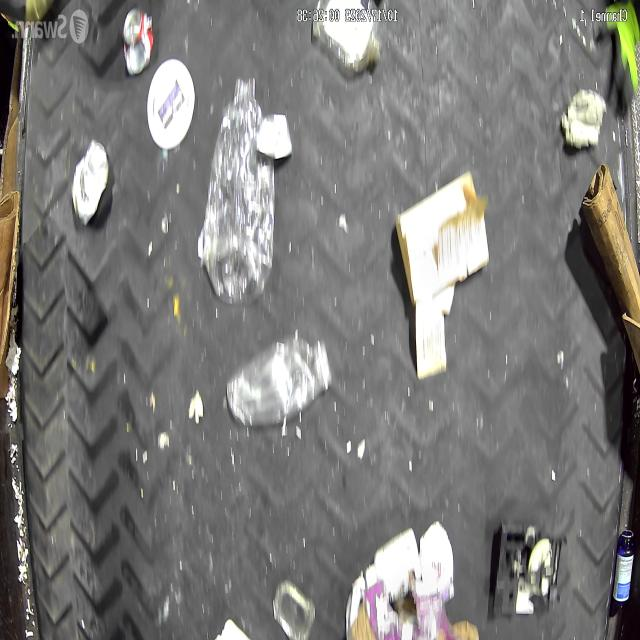can: (71, 140, 109, 228), (122, 7, 154, 79)
plastic_bottle: (197, 77, 275, 306), (225, 331, 329, 429)
